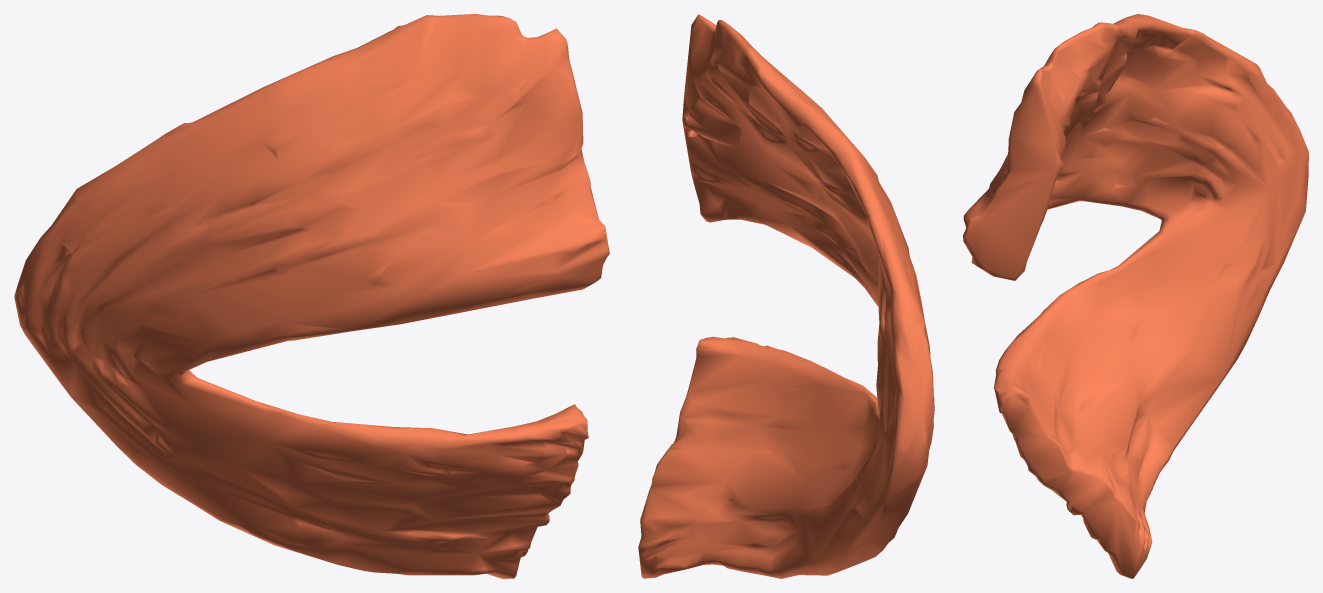
File: Orbicularis_oris.r_Generated_Mesh_From_X3D.312.glb
3 views of the same model, side by side, from view 1: azimuth 30°, elevation 25°; view 2: azimuth 150°, elevation 25°; view 3: azimuth 270°, elevation 25° (orthographic). The views are drawn at different scales.
Visible parts, largest first — view 1: Orbicularis_oris.r_Generated_Mesh_From_X3D.312; view 2: Orbicularis_oris.r_Generated_Mesh_From_X3D.312; view 3: Orbicularis_oris.r_Generated_Mesh_From_X3D.312.
Boxes of the visible parts, left/top/right/bottom form: Orbicularis_oris.r_Generated_Mesh_From_X3D.312: left=14, top=14, right=609, bottom=578; Orbicularis_oris.r_Generated_Mesh_From_X3D.312: left=638, top=14, right=934, bottom=578; Orbicularis_oris.r_Generated_Mesh_From_X3D.312: left=963, top=14, right=1308, bottom=578.
Size of the model in its own units: 0.0321 by 0.0454 by 0.0276.
